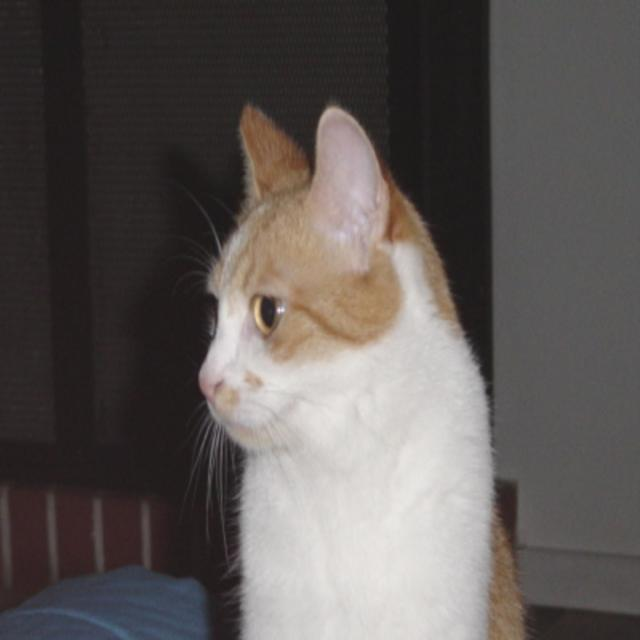Cat: (177, 98, 535, 639)
